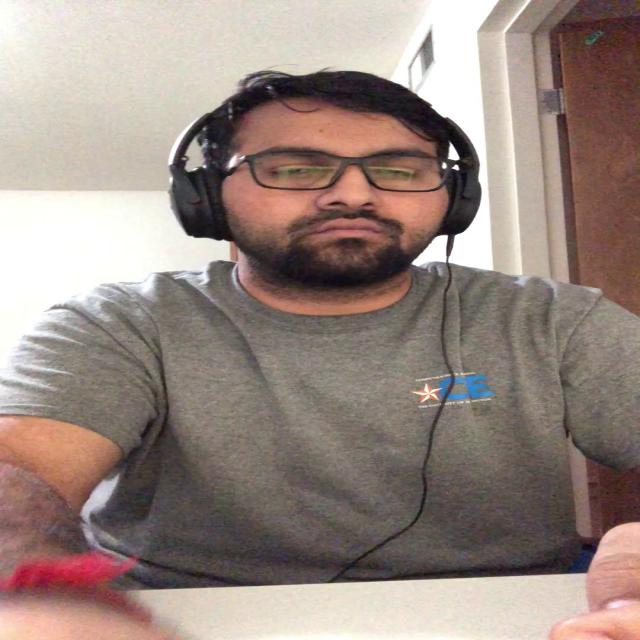sem_oculos: (174, 142, 538, 204)
